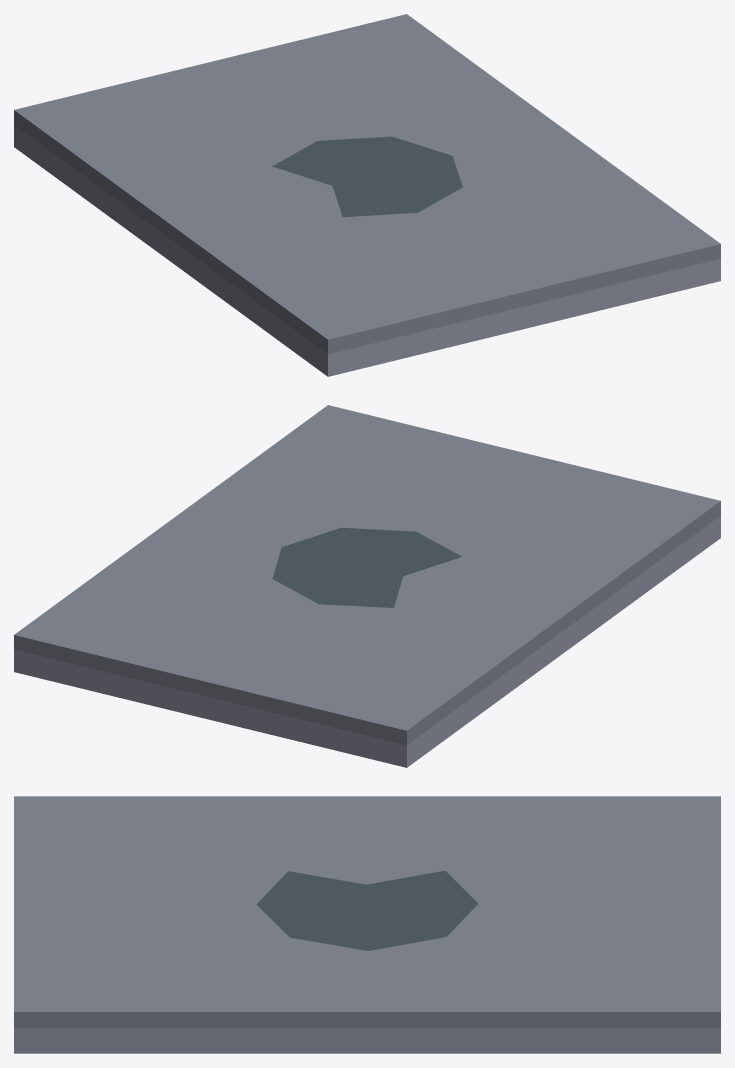
The model's file is _aptop_Open.fbx.
The picture shows the model from 3 angles, top to bottom: view 1: azimuth 30°, elevation 25°; view 2: azimuth 150°, elevation 25°; view 3: azimuth 270°, elevation 25°; orthographic projection. The views are drawn at different scales.
Parts seen in each view (by area): view 1: Screen, Keyboard; view 2: Screen, Keyboard; view 3: Screen, Keyboard.
Part boxes in pixels (x1=…): Screen: x1=14, y1=14, x2=720, y2=354; Keyboard: x1=14, y1=125, x2=720, y2=376; Screen: x1=14, y1=405, x2=720, y2=745; Keyboard: x1=14, y1=516, x2=720, y2=767; Screen: x1=14, y1=796, x2=720, y2=1028; Keyboard: x1=14, y1=1028, x2=720, y2=1053.
Size of the model in its own units: 0.0139 by 0.00125 by 0.0192.
Materials: 1 (1 with a texture image).
